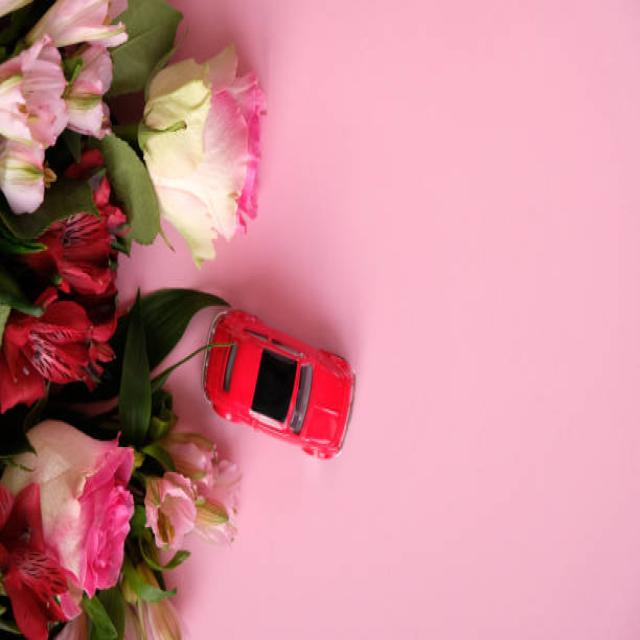Car: (200, 307, 356, 463)
